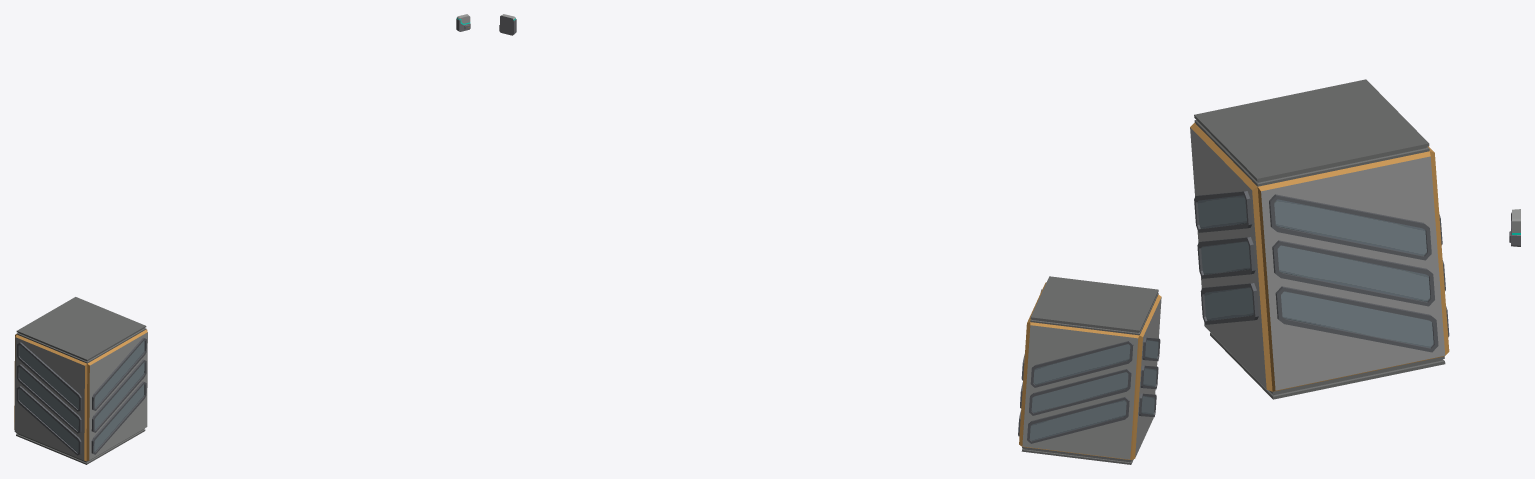
File: SM_Bld_Section_Window_04 (2).fbx
The picture shows the model from 3 angles, left to right: view 1: azimuth 30°, elevation 25°; view 2: azimuth 150°, elevation 25°; view 3: azimuth 270°, elevation 25°; orthographic projection. The views are drawn at different scales.
Parts seen in each view (by area): view 1: SM_Bld_Section_Window_04 (2); view 2: SM_Bld_Section_Window_04 (2); view 3: SM_Bld_Section_Window_04 (2), SM_Prop_WallAttach_Electronics_04.
Boxes of the visible parts, <box> form: SM_Bld_Section_Window_04 (2): <box>14,297,147,464</box>; SM_Bld_Section_Window_04 (2): <box>1018,276,1161,464</box>; SM_Bld_Section_Window_04 (2): <box>1190,79,1449,399</box>; SM_Prop_WallAttach_Electronics_04: <box>1509,209,1520,246</box>.
Size of the model in its own units: 20 by 10.95 by 5.82.
